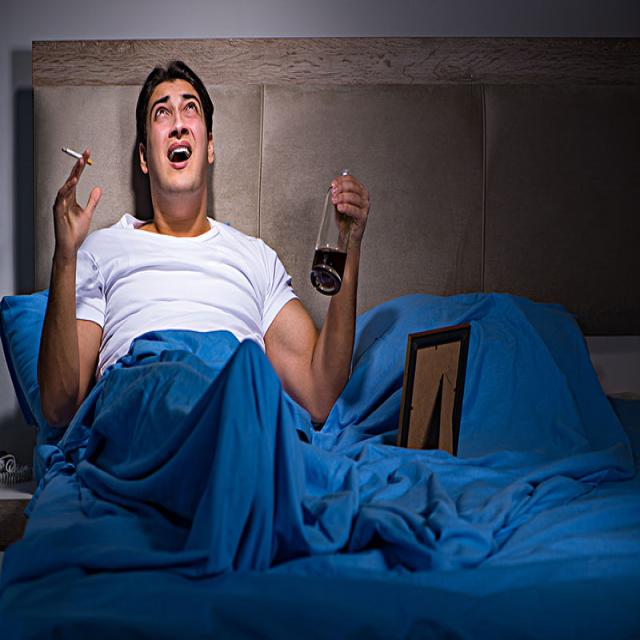smoking: (62, 144, 94, 167)
